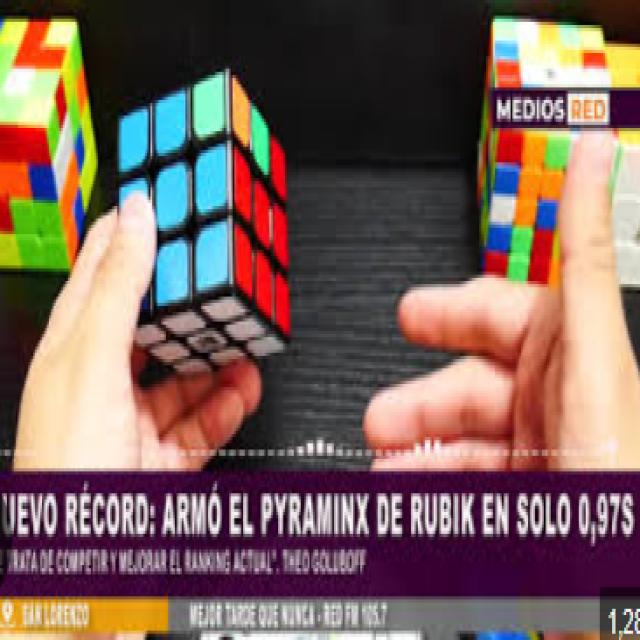Cubo-No-resuelto: (119, 69, 287, 372), (479, 19, 603, 281), (0, 16, 96, 268)
Cubo-Resuelto: (610, 128, 638, 287), (605, 44, 638, 84)
